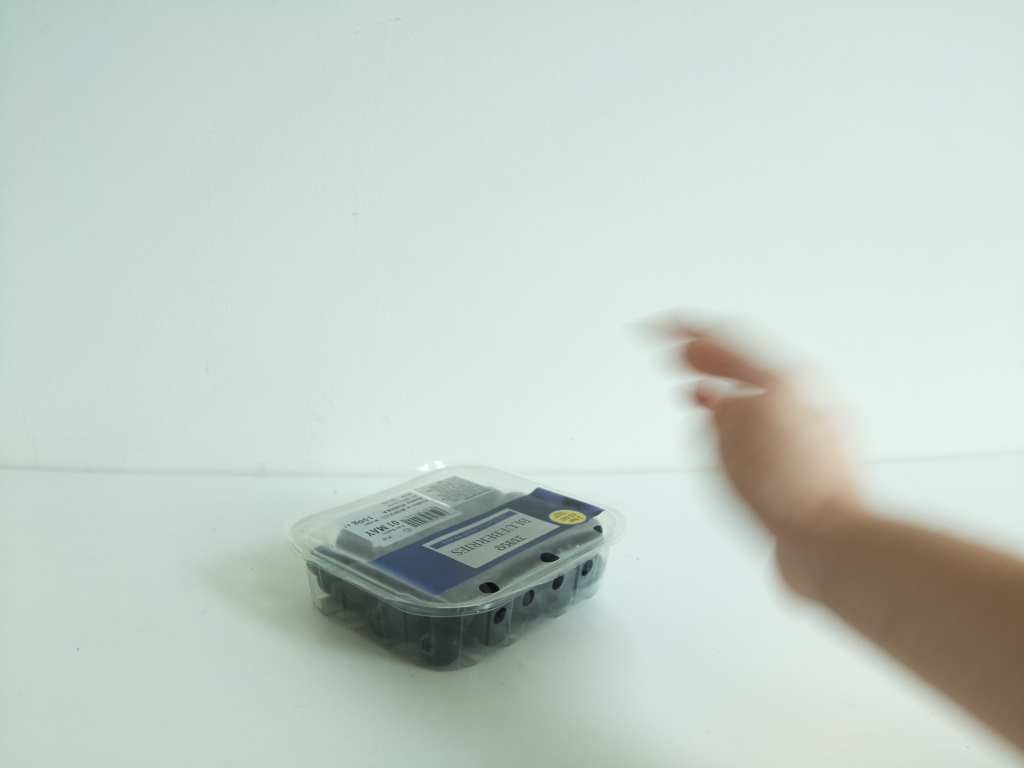soft-fruit: (294, 461, 619, 673)
